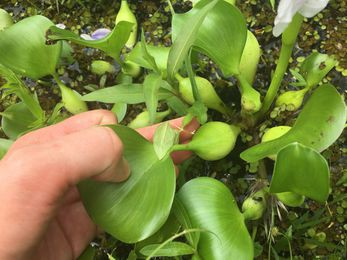water_hyacinth: (1, 7, 345, 260)
